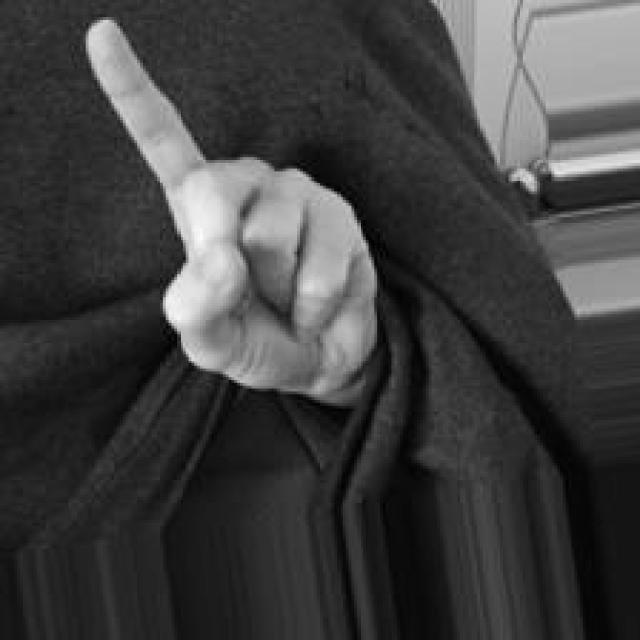I: (77, 10, 393, 420)
